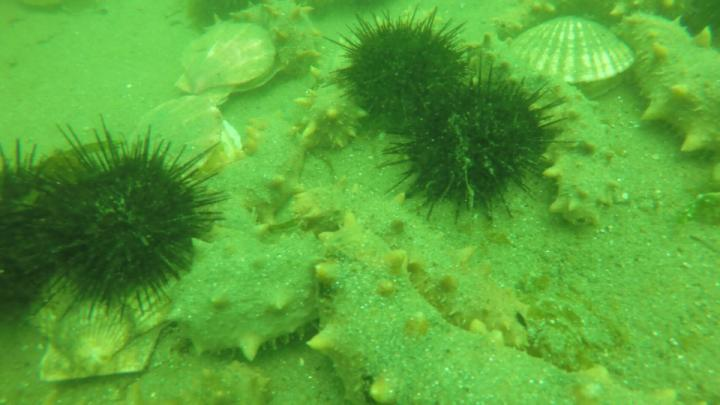echinus: (32, 124, 227, 326), (385, 57, 565, 215), (330, 4, 478, 143), (1, 138, 72, 318), (182, 1, 252, 29)
holothurian: (317, 219, 720, 405), (317, 226, 685, 403), (484, 37, 616, 226), (164, 219, 317, 364), (616, 7, 720, 161), (35, 359, 275, 405), (207, 112, 307, 216), (298, 36, 370, 149), (266, 1, 321, 78), (496, 1, 561, 42)
scallop: (22, 268, 174, 388), (509, 17, 637, 103), (131, 98, 241, 188), (178, 19, 276, 98)
